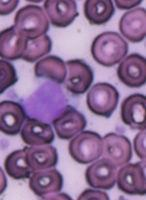L: (22, 77, 68, 123)
